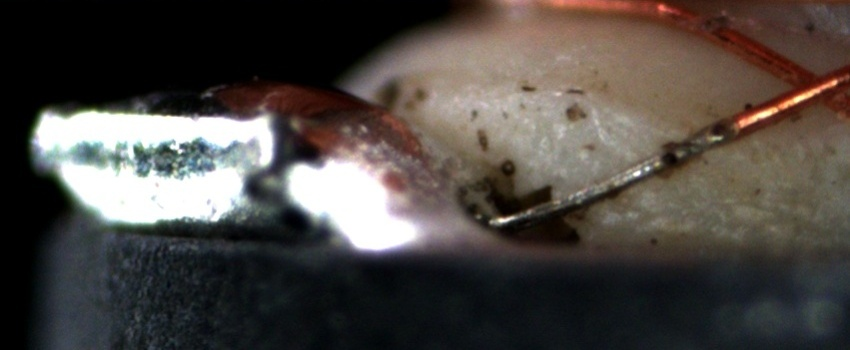CL: (765, 53, 846, 115)
TS: (493, 119, 740, 229)
